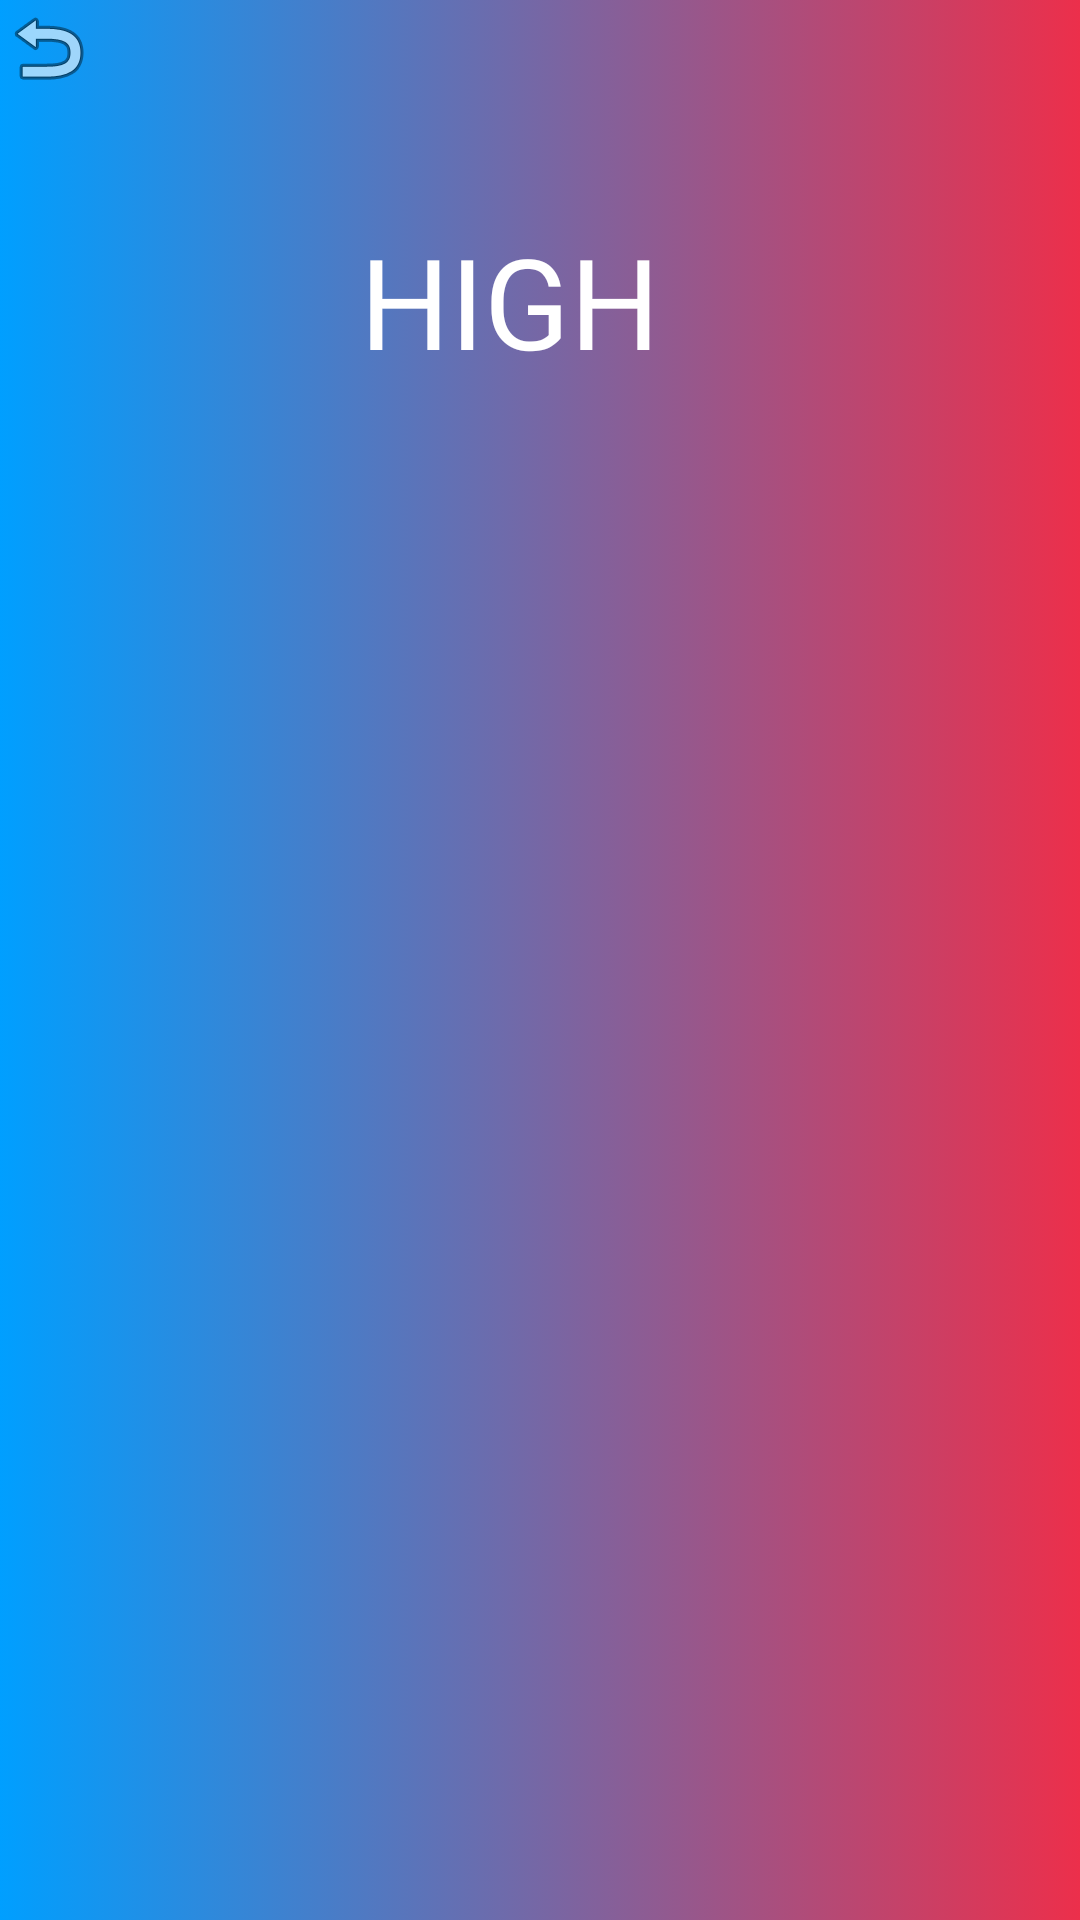

Icon click points for this 1080px x 1920px phone screenshot, format (x,y):
revert: (49,48)
